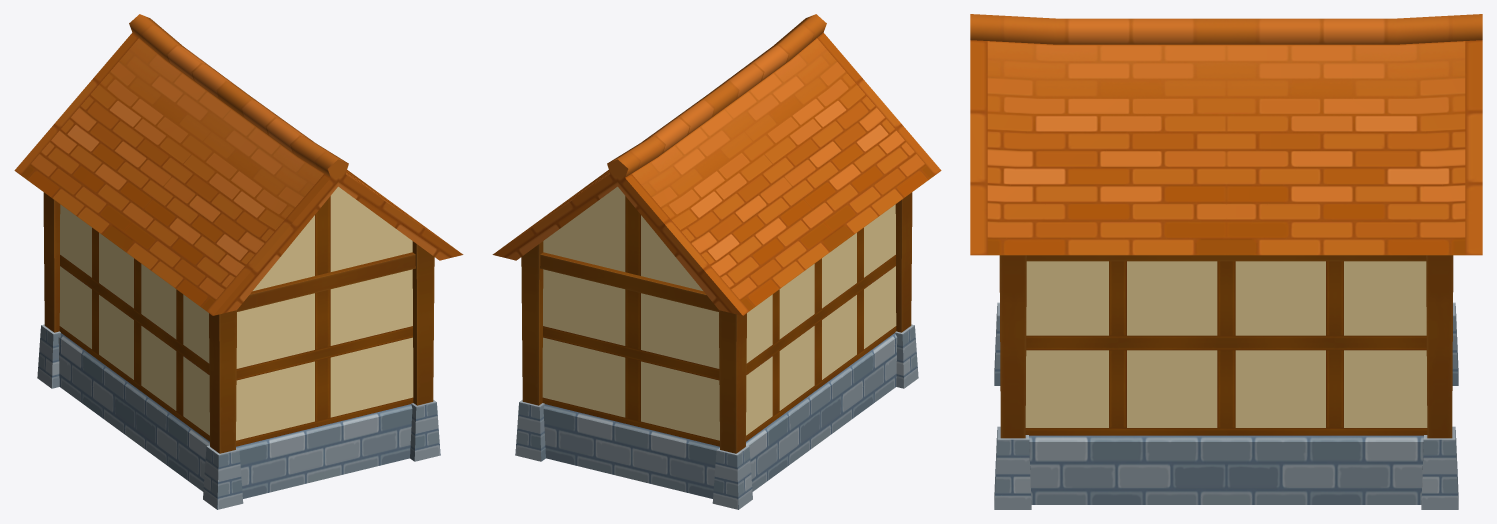
Rendered from BLD0710038.fbx.
The picture shows the model from 3 angles, left to right: view 1: azimuth 30°, elevation 25°; view 2: azimuth 150°, elevation 25°; view 3: azimuth 270°, elevation 25°; orthographic projection. The views are drawn at different scales.
Parts seen in each view (by area): view 1: smBLD0710038; view 2: smBLD0710038; view 3: smBLD0710038.
Boxes of the visible parts, x1,y1,x2,y2 form: smBLD0710038: [14, 14, 463, 509]; smBLD0710038: [492, 14, 941, 509]; smBLD0710038: [970, 14, 1482, 509].
Bounding box in the file's own units: 286 × 360 × 393.
1 material, 1 textured.
